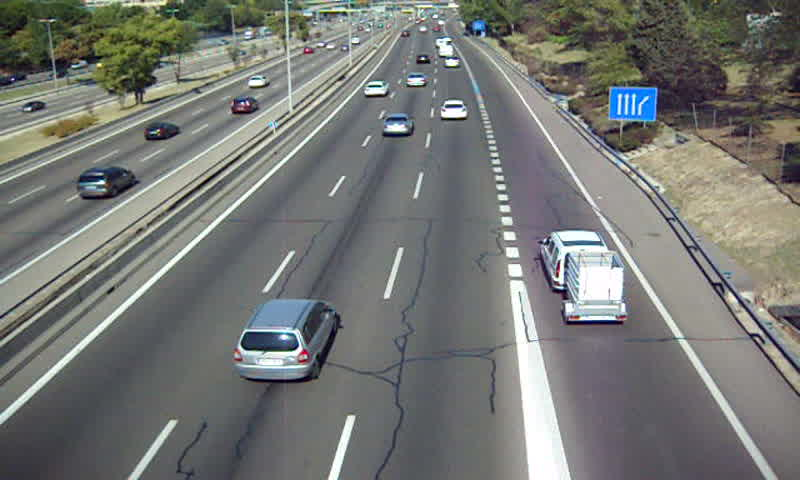car: (232, 298, 338, 382), (382, 115, 413, 136), (440, 100, 468, 120), (363, 80, 388, 98), (404, 72, 428, 89), (444, 56, 462, 68)
van: (539, 231, 610, 293)
